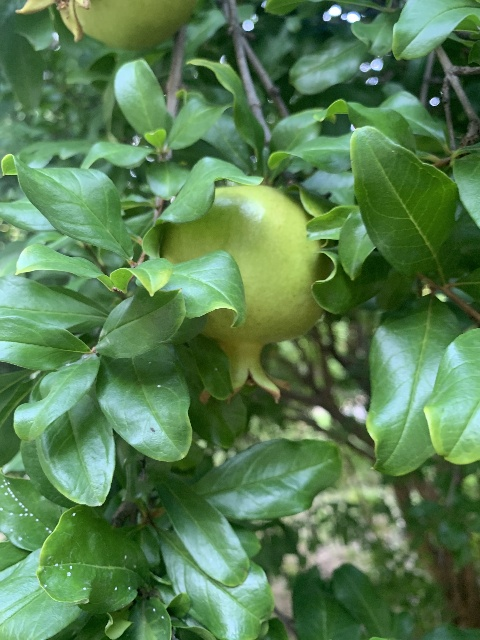mid-growth: (159, 181, 325, 404)
